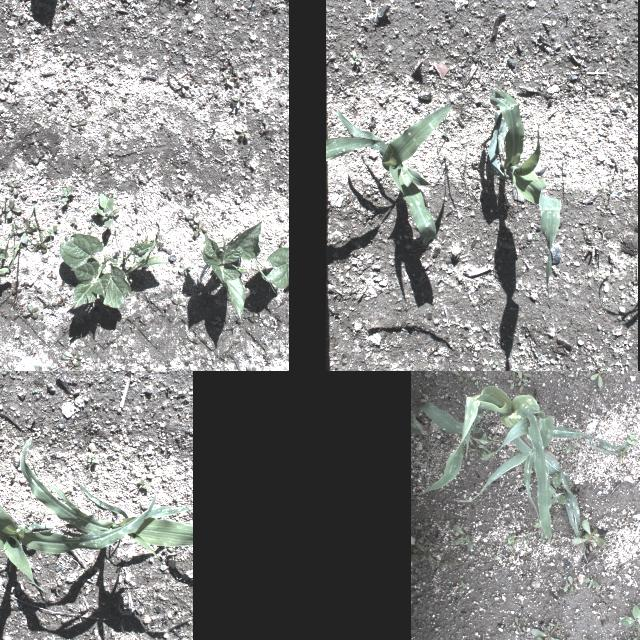crop: (420, 384, 626, 540), (0, 396, 155, 590), (21, 438, 193, 558), (326, 103, 452, 243), (484, 83, 564, 300), (60, 236, 166, 312), (202, 219, 262, 321), (412, 402, 473, 438), (254, 248, 288, 296)
weed: (571, 518, 607, 548), (92, 192, 120, 228), (0, 246, 18, 291), (618, 603, 640, 638), (526, 622, 565, 640), (434, 148, 451, 186), (8, 220, 32, 246), (452, 523, 474, 549), (410, 542, 436, 564), (465, 412, 485, 440), (62, 347, 82, 371), (508, 532, 534, 550), (440, 121, 460, 143), (0, 200, 21, 220), (30, 233, 50, 253), (6, 180, 26, 198), (193, 218, 209, 240), (595, 177, 611, 199), (592, 266, 610, 284), (562, 575, 578, 595), (590, 371, 610, 387), (566, 429, 578, 455), (460, 151, 470, 181), (70, 115, 86, 133), (184, 211, 200, 229), (21, 303, 37, 321), (478, 432, 488, 460), (174, 80, 190, 96), (582, 576, 600, 590), (508, 371, 520, 392), (72, 363, 102, 371), (2, 74, 16, 90), (45, 223, 59, 239), (420, 394, 436, 408), (351, 47, 362, 67), (435, 560, 457, 570), (235, 126, 253, 138), (622, 418, 634, 436), (412, 524, 433, 534), (59, 188, 72, 204), (452, 371, 472, 381), (8, 280, 22, 294), (207, 86, 220, 100), (619, 448, 629, 466), (518, 625, 529, 640), (140, 363, 160, 371), (519, 381, 531, 394), (138, 478, 152, 489), (516, 371, 527, 385), (0, 361, 15, 371), (186, 186, 198, 198), (626, 434, 638, 446), (158, 190, 172, 200), (161, 542, 175, 552), (473, 446, 487, 456), (492, 356, 500, 371), (458, 580, 468, 592), (581, 371, 591, 383), (471, 377, 481, 389), (89, 453, 99, 463), (487, 436, 497, 446), (514, 616, 520, 632), (571, 371, 579, 382), (510, 371, 531, 375), (422, 456, 432, 464), (416, 371, 430, 376), (203, 368, 222, 371), (9, 470, 15, 478), (633, 406, 640, 411), (174, 497, 178, 501)
